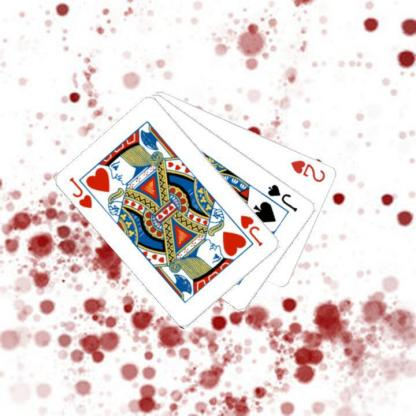2H: (288, 157, 327, 184)
JH: (237, 212, 264, 248), (67, 174, 94, 210)
JS: (265, 181, 299, 214)
